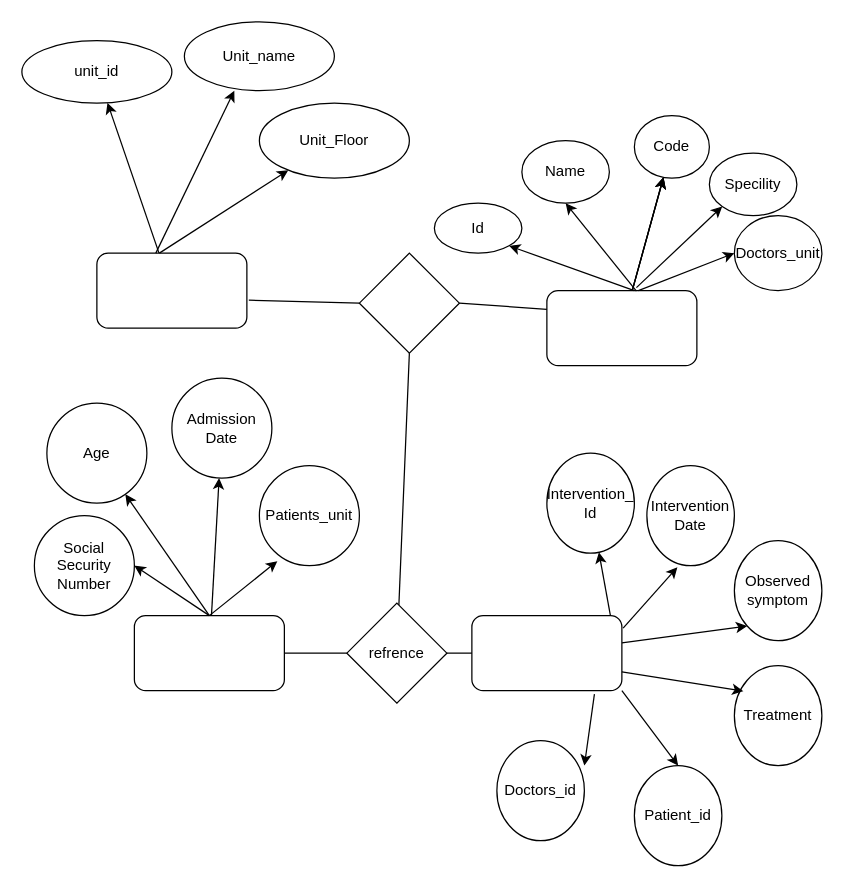
This 844x888 diagram has some shape labels left out. Here are the shapes that lost their labels. From the top down, the centre of each, then its label:
point (171, 290): Units
point (408, 302): has
point (621, 327): Doctors
point (208, 652): Patients
point (546, 652): Intervention
